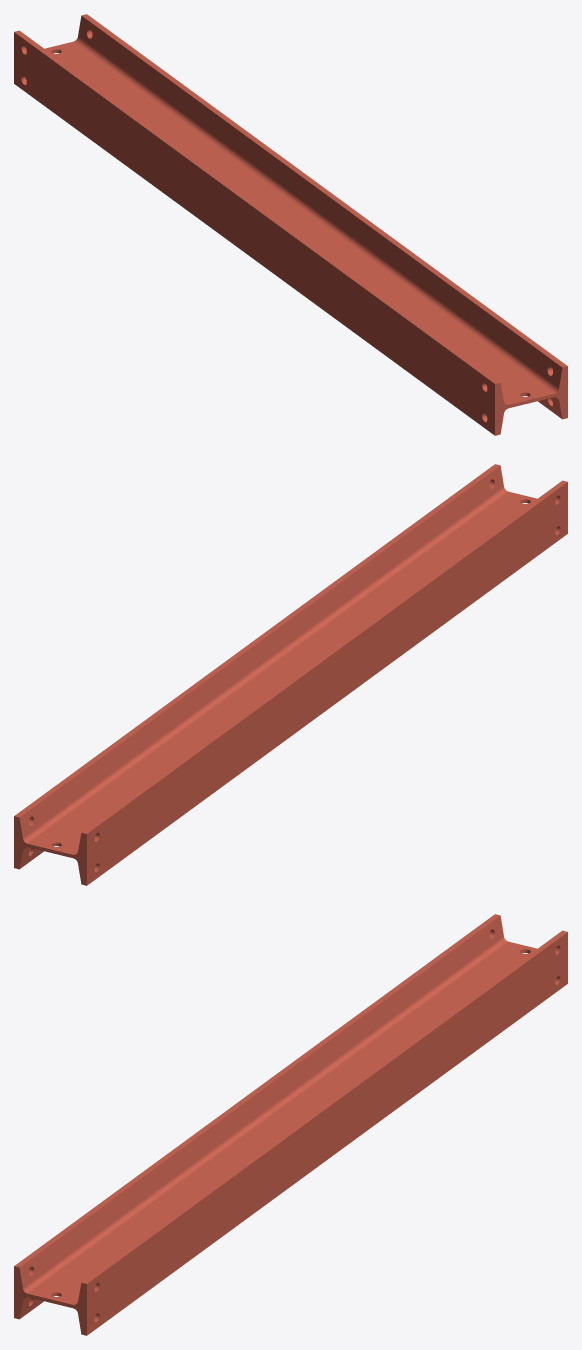
Rendered from EV-CM-HP-114 - H-Profile Short.glb.
3 renders of one model, top to bottom at view 1: azimuth 30°, elevation 25°; view 2: azimuth 150°, elevation 25°; view 3: azimuth 330°, elevation 25°, orthographic.
Parts seen in each view (by area): view 1: H-Profile_Short; view 2: H-Profile_Short; view 3: H-Profile_Short.
Boxes of the visible parts, left/top/right/bottom form: H-Profile_Short: left=14, top=14, right=567, bottom=435; H-Profile_Short: left=14, top=464, right=567, bottom=885; H-Profile_Short: left=14, top=914, right=567, bottom=1335.
Size of the model in its own units: 99.96 by 67.9 by 1142.
